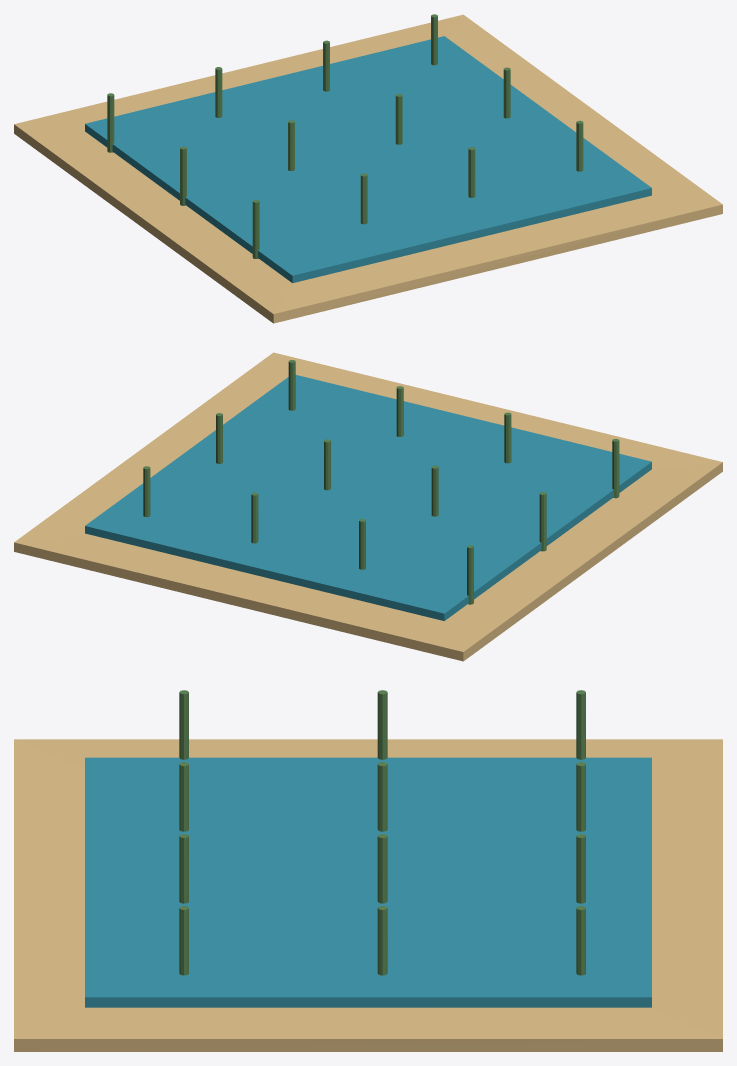
Rendered from Wetland.glb.
3 renders of one model, top to bottom at view 1: azimuth 30°, elevation 25°; view 2: azimuth 150°, elevation 25°; view 3: azimuth 270°, elevation 25°, orthographic. The views are drawn at different scales.
Parts seen in each view (by area): view 1: wetland-static-wetland-water, wetland-static-wetland-earth, wetland-static-wetland-leaf; view 2: wetland-static-wetland-water, wetland-static-wetland-earth, wetland-static-wetland-leaf; view 3: wetland-static-wetland-water, wetland-static-wetland-earth, wetland-static-wetland-leaf.
Part boxes in pixels (left/top/right/bottom): wetland-static-wetland-water: left=85, top=36, right=651, bottom=283; wetland-static-wetland-earth: left=14, top=14, right=722, bottom=323; wetland-static-wetland-leaf: left=107, top=14, right=583, bottom=258; wetland-static-wetland-water: left=85, top=375, right=651, bottom=620; wetland-static-wetland-earth: left=14, top=352, right=722, bottom=661; wetland-static-wetland-leaf: left=143, top=360, right=619, bottom=604; wetland-static-wetland-water: left=85, top=757, right=651, bottom=1007; wetland-static-wetland-earth: left=14, top=739, right=722, bottom=1051; wetland-static-wetland-leaf: left=179, top=690, right=585, bottom=975.
Size of the model in its own units: 5 by 0.7 by 5.
